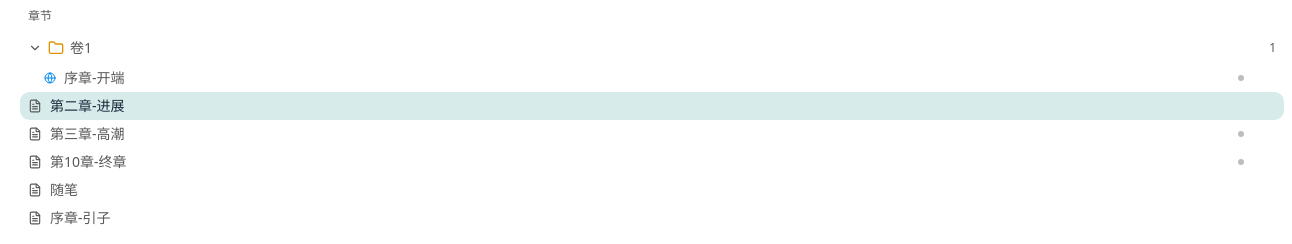
it: KnowledgeTree › 重命名开始：清除拖拽 pending timer（pointerdown 后立即 rename）
expect the text "第三章-高潮" is shown: met, box [50,124,124,143]
Press the mouse on the element showing "第二章-进展": (652, 106) [20,92,1284,120]
// 300ms 内右键 → 重命名：清除 pending timer
Right-click the element showing "第二章-进展": (652, 106) [20,92,1284,120]
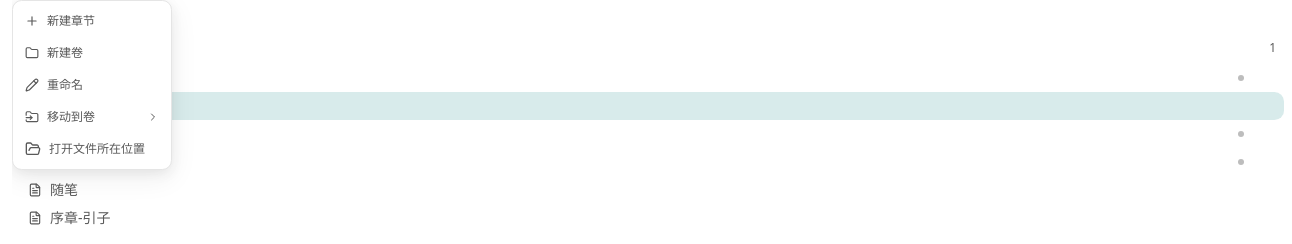
Click the button "重命名": (92, 85) [13,69,171,101]
Wait 300 ms
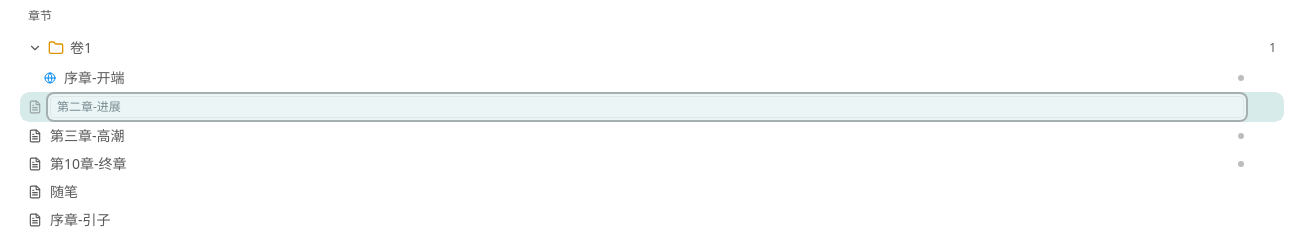
expect the field is shown: met, box [50,96,1244,118]
